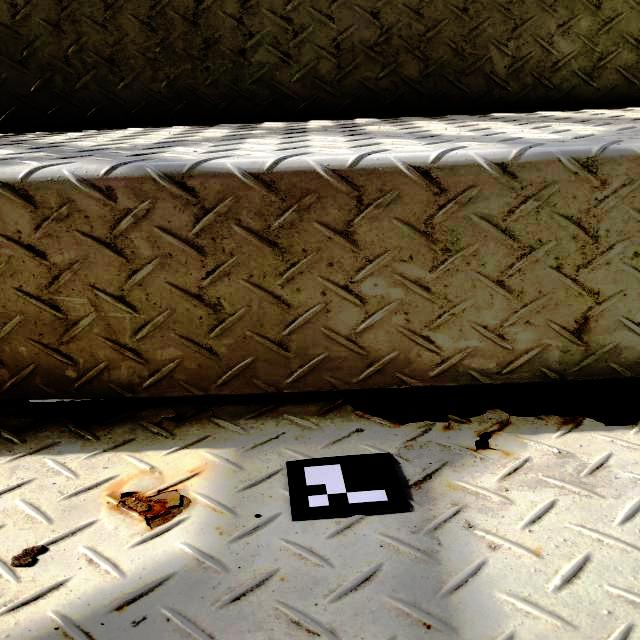Corrosion: (330, 377, 640, 426), (0, 399, 142, 429), (116, 491, 190, 529), (476, 432, 497, 451)
